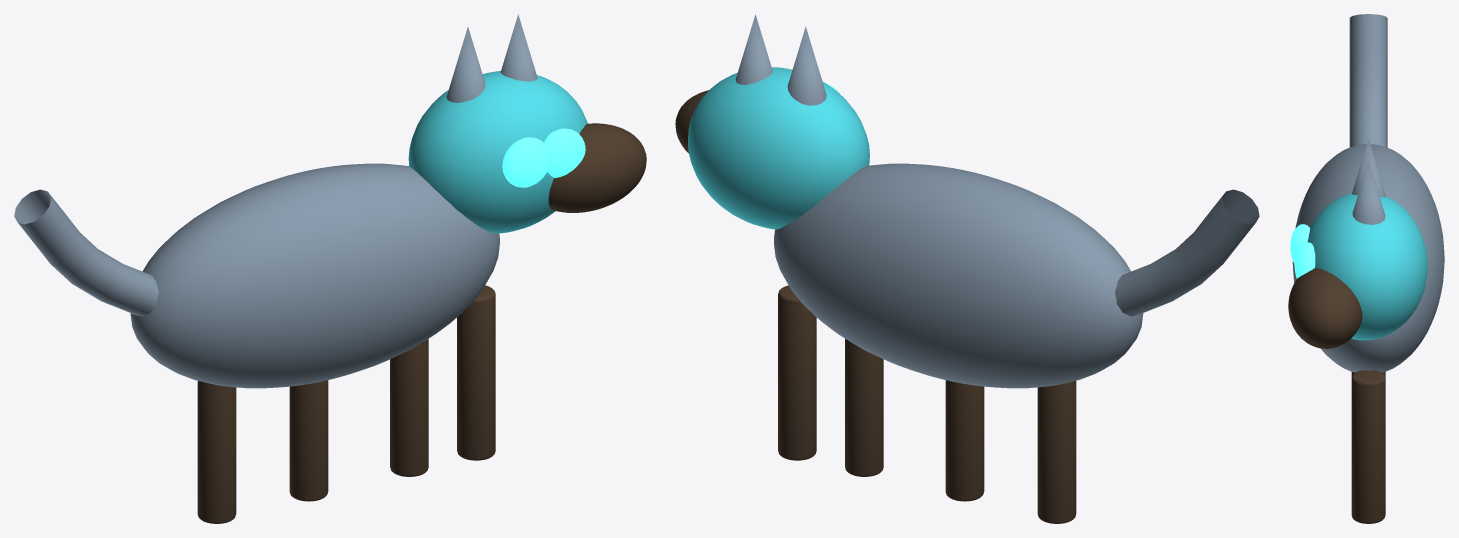
Rendered from quadruped_v2.glb.
3 renders of one model, left to right at view 1: azimuth 30°, elevation 25°; view 2: azimuth 150°, elevation 25°; view 3: azimuth 270°, elevation 25°, orthographic. The views are drawn at different scales.
Visible parts, largest first — view 1: WOLF_BODY_PRIMARY, WOLF_HEAD_ACCENT, WOLF_TAIL_PRIMARY, WOLF_LEG_SECONDARY.003, WOLF_MUZZLE_SECONDARY, WOLF_LEG_SECONDARY, WOLF_LEG_SECONDARY.002, WOLF_LEG_SECONDARY.001, EYE_EMISSIVE, WOLF_EAR_PRIMARY, EYE_EMISSIVE.001, WOLF_EAR_PRIMARY.001; view 2: WOLF_BODY_PRIMARY, WOLF_HEAD_ACCENT, WOLF_TAIL_PRIMARY, WOLF_LEG_SECONDARY.003, WOLF_LEG_SECONDARY, WOLF_LEG_SECONDARY.002, WOLF_LEG_SECONDARY.001, WOLF_EAR_PRIMARY, WOLF_EAR_PRIMARY.001, WOLF_MUZZLE_SECONDARY; view 3: WOLF_HEAD_ACCENT, WOLF_BODY_PRIMARY, WOLF_LEG_SECONDARY.003, WOLF_TAIL_PRIMARY, WOLF_MUZZLE_SECONDARY, WOLF_EAR_PRIMARY.001, WOLF_EAR_PRIMARY, EYE_EMISSIVE.001, EYE_EMISSIVE.
Boxes of the visible parts, box(x1,y1,x2,y2) form: WOLF_BODY_PRIMARY: box(130, 163, 499, 388); WOLF_HEAD_ACCENT: box(408, 71, 587, 233); WOLF_TAIL_PRIMARY: box(14, 189, 158, 316); WOLF_LEG_SECONDARY.003: box(457, 285, 495, 460); WOLF_MUZZLE_SECONDARY: box(548, 123, 646, 212); WOLF_LEG_SECONDARY: box(197, 381, 236, 523); WOLF_LEG_SECONDARY.002: box(390, 339, 428, 476); WOLF_LEG_SECONDARY.001: box(289, 380, 328, 501); EYE_EMISSIVE: box(502, 137, 550, 187); WOLF_EAR_PRIMARY: box(446, 27, 485, 102); EYE_EMISSIVE.001: box(544, 128, 585, 177); WOLF_EAR_PRIMARY.001: box(500, 14, 537, 81); WOLF_BODY_PRIMARY: box(774, 163, 1143, 388); WOLF_HEAD_ACCENT: box(688, 67, 869, 229); WOLF_TAIL_PRIMARY: box(1115, 189, 1259, 316); WOLF_LEG_SECONDARY.003: box(778, 285, 816, 460); WOLF_LEG_SECONDARY: box(1037, 381, 1076, 523); WOLF_LEG_SECONDARY.002: box(845, 338, 883, 476); WOLF_LEG_SECONDARY.001: box(945, 380, 984, 501); WOLF_EAR_PRIMARY: box(787, 26, 826, 105); WOLF_EAR_PRIMARY.001: box(735, 14, 772, 84); WOLF_MUZZLE_SECONDARY: box(675, 90, 708, 153); WOLF_HEAD_ACCENT: box(1307, 193, 1427, 340); WOLF_BODY_PRIMARY: box(1292, 144, 1444, 372); WOLF_LEG_SECONDARY.003: box(1351, 370, 1385, 523); WOLF_TAIL_PRIMARY: box(1349, 14, 1387, 147); WOLF_MUZZLE_SECONDARY: box(1288, 268, 1362, 348); WOLF_EAR_PRIMARY.001: box(1352, 161, 1385, 224); WOLF_EAR_PRIMARY: box(1352, 139, 1385, 197); EYE_EMISSIVE.001: box(1294, 242, 1315, 278); EYE_EMISSIVE: box(1290, 224, 1310, 263).
Size of the model in its own units: 2.35 by 1.61 by 0.6068.
